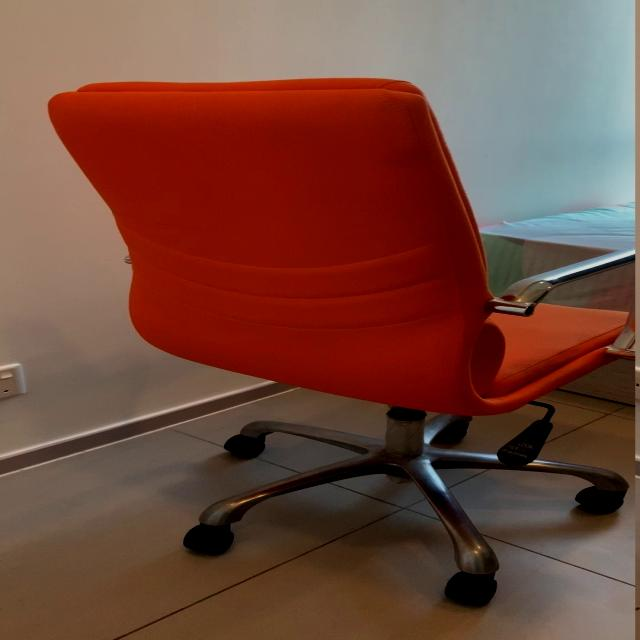Chair: (39, 71, 640, 609)
